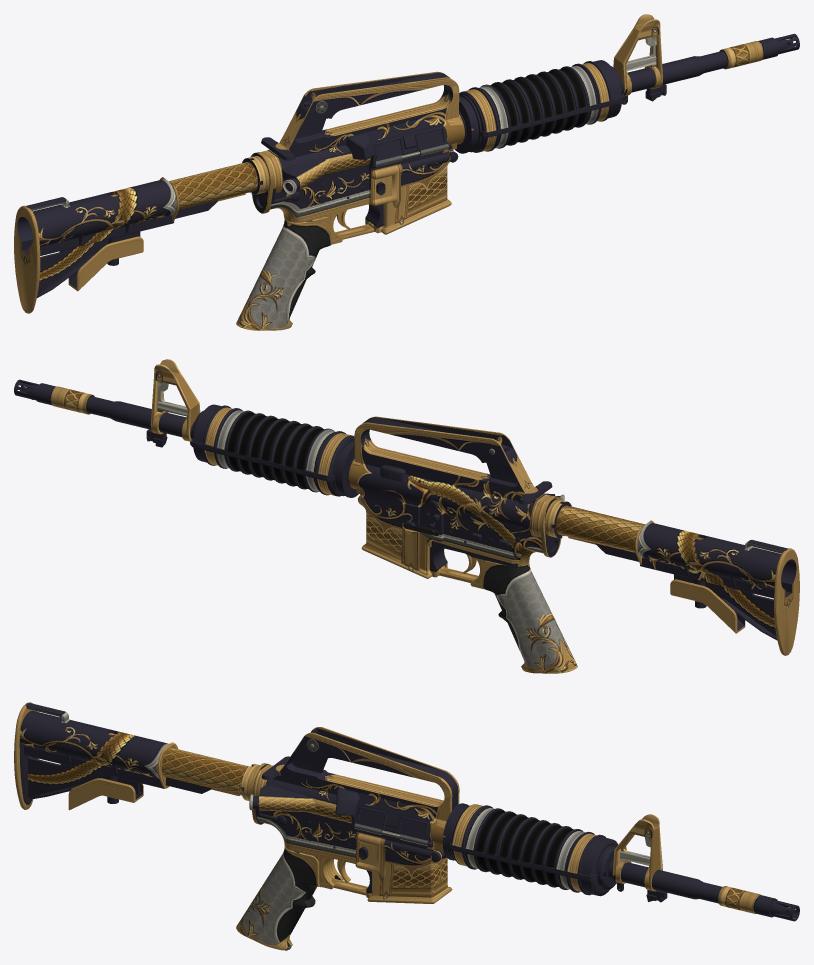
File: w_carbinerifle_snakebite_gold.glb
The picture shows the model from 3 angles, top to bottom: view 1: azimuth 30°, elevation 25°; view 2: azimuth 150°, elevation 25°; view 3: azimuth 330°, elevation 25°; orthographic projection.
Visible parts, largest first — view 1: Gun_Root; view 2: Gun_Root; view 3: Gun_Root.
Part boxes in pixels (<box>): Gun_Root: <box>14,14,799,330</box>; Gun_Root: <box>14,359,799,673</box>; Gun_Root: <box>14,702,799,950</box>.
Bounding box in the file's own units: 0.7831 × 0.2196 × 0.0717.
1 material, 1 textured.
